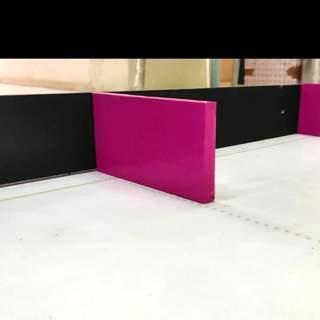xparking: (96, 104, 214, 184), (302, 84, 318, 134)
